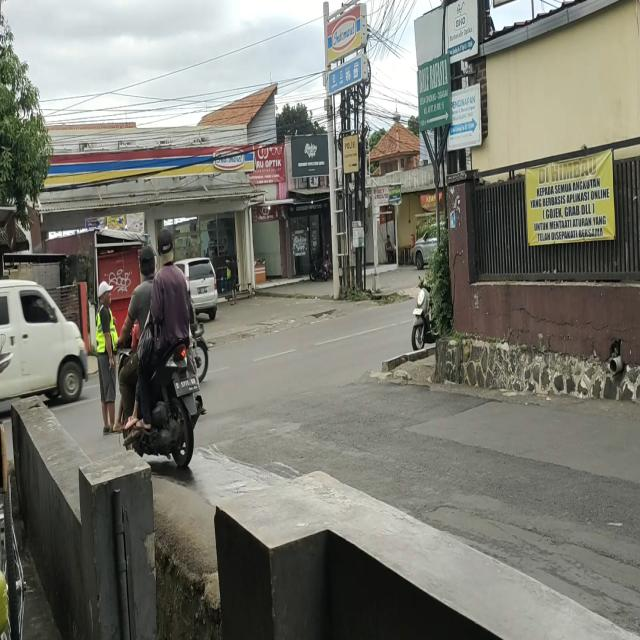no-helmet: (158, 230, 172, 262), (140, 248, 154, 278)
